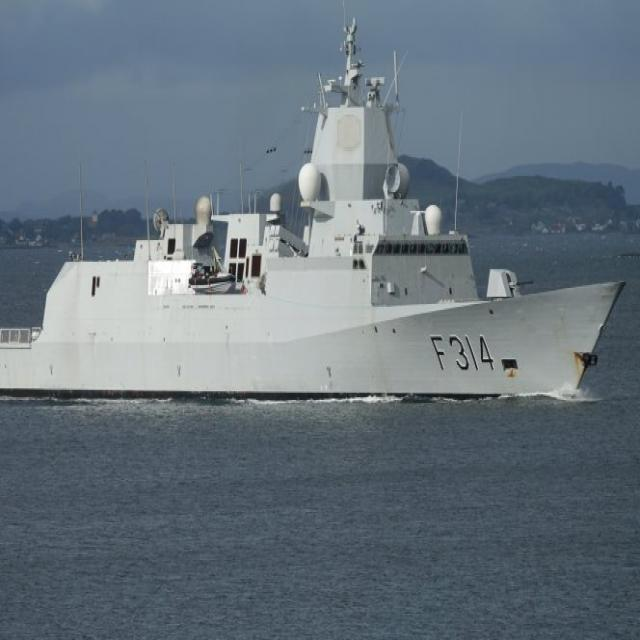Fragata: (1, 9, 625, 406)
